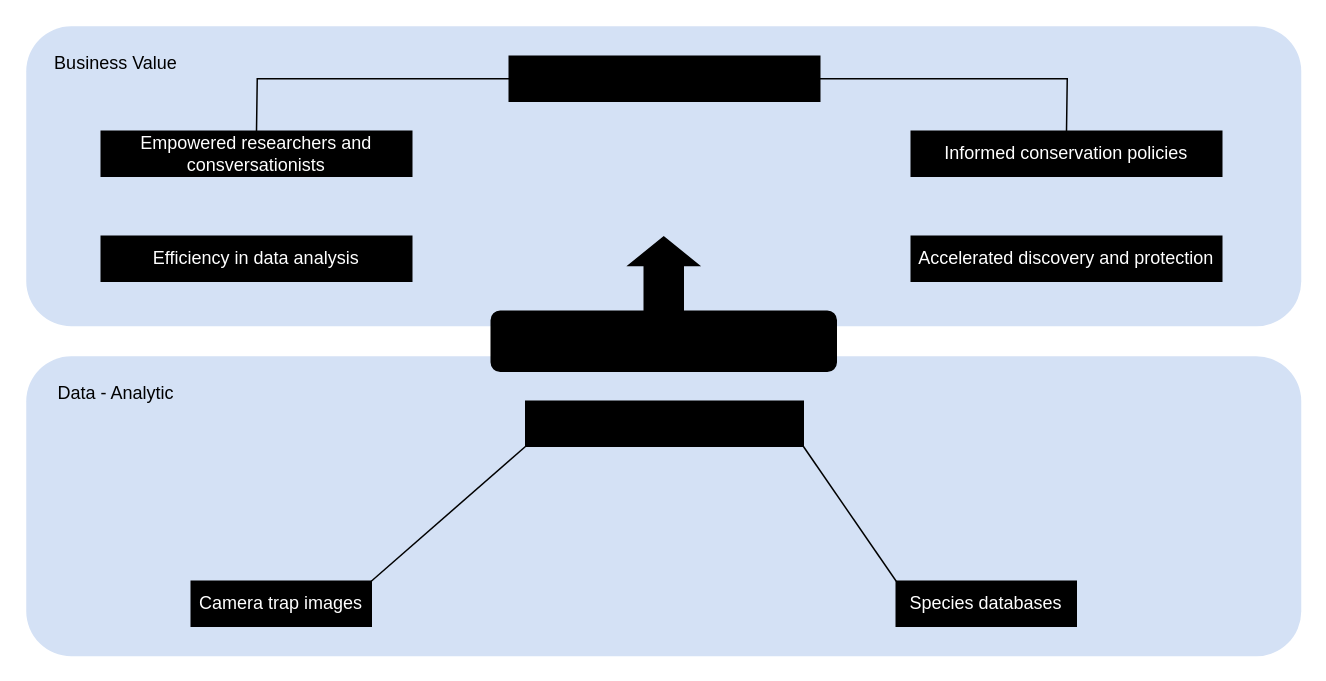
This 1326x681 diagram has some shape labels left out. Each missing label, with the centre of its shape:
"Accurate species classification" goes at (663,423).
"Advanced conversation techniques" goes at (664,78).
"Help conservationists" goes at (663,340).
